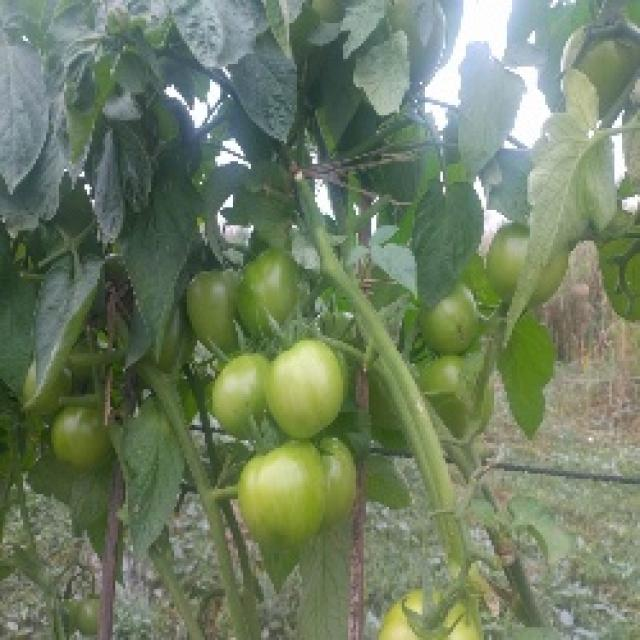tomato: (266, 338, 355, 436), (238, 437, 325, 537), (204, 350, 281, 441), (240, 249, 308, 345), (383, 587, 488, 640), (189, 263, 248, 351), (419, 294, 490, 355), (575, 26, 640, 92), (322, 425, 359, 529), (54, 405, 111, 465), (489, 217, 523, 300), (59, 592, 104, 637), (417, 353, 467, 393)
